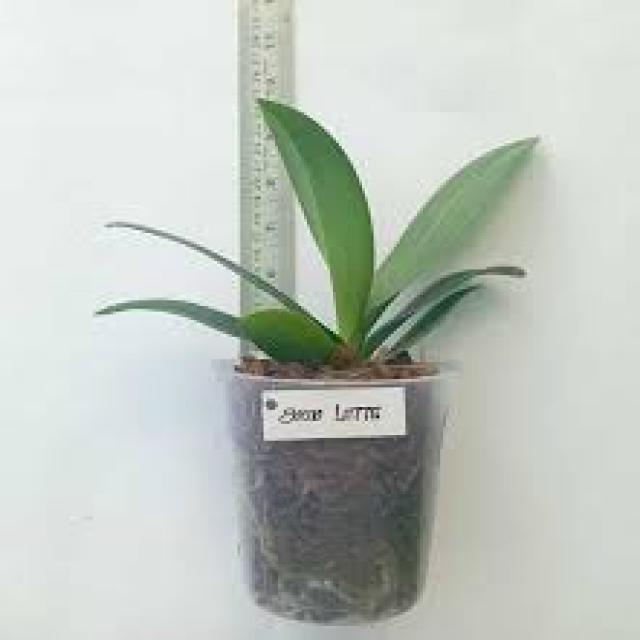leaf: (263, 101, 375, 350), (379, 136, 537, 302), (107, 219, 332, 332), (92, 296, 339, 363), (366, 265, 526, 360)
plant: (51, 48, 560, 639)
pot: (212, 317, 465, 639)
